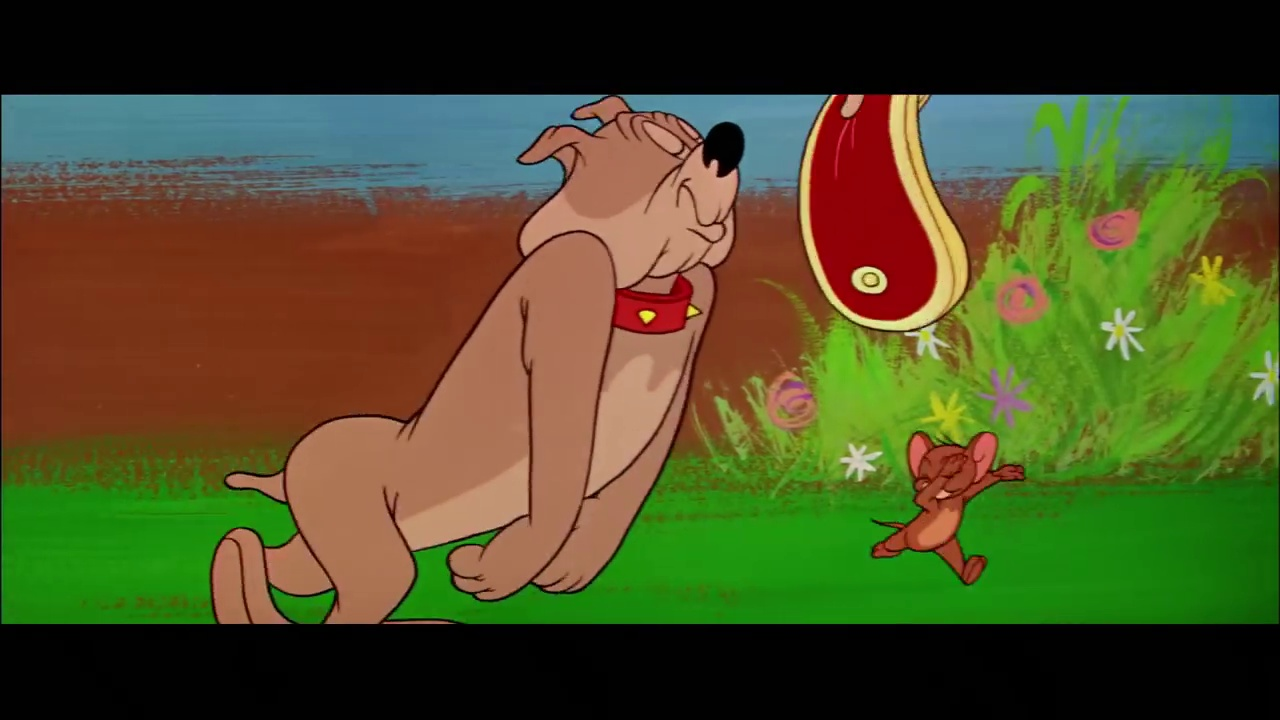spike: (512, 96, 749, 338)
